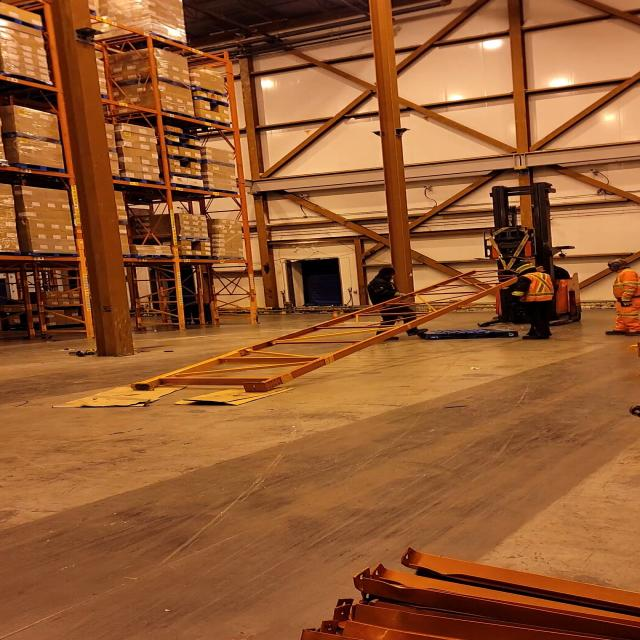forklift: (474, 186, 584, 330)
human: (366, 266, 430, 343), (504, 264, 559, 340), (601, 258, 640, 336), (530, 253, 576, 280)
objectofinterest: (131, 265, 538, 393), (47, 380, 191, 411), (168, 383, 300, 408), (402, 323, 522, 343)
